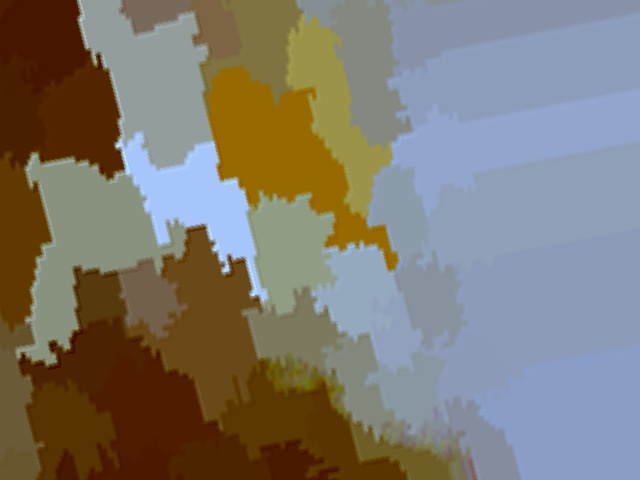one: (140, 117, 188, 173)
